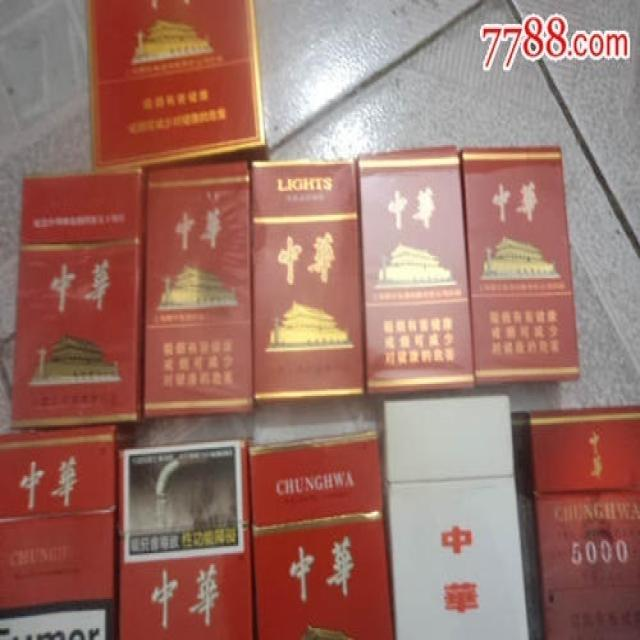box: (378, 396, 530, 638), (9, 169, 147, 430), (84, 0, 270, 171), (250, 430, 394, 638), (1, 423, 137, 640), (356, 145, 475, 393), (513, 404, 637, 638), (460, 147, 580, 386), (143, 162, 255, 418), (251, 157, 365, 406), (118, 439, 253, 638)
